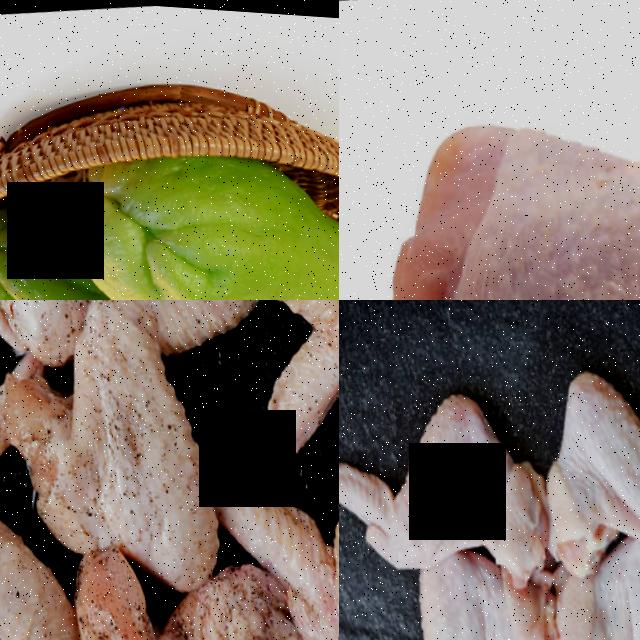chayote: (92, 95, 339, 300)
chicken thigh: (352, 3, 640, 300)
chicken wing: (27, 300, 282, 594), (339, 366, 555, 592), (188, 300, 339, 488), (535, 329, 640, 577), (0, 347, 76, 640), (339, 544, 562, 640)
